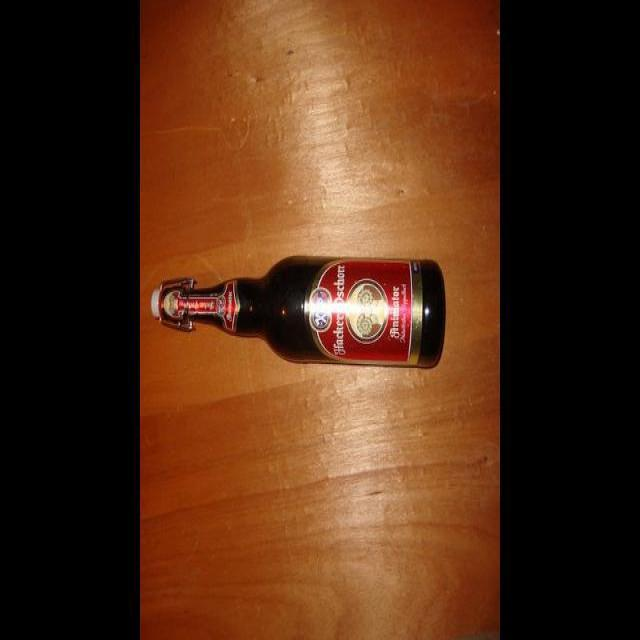Glass: (151, 254, 447, 370)
